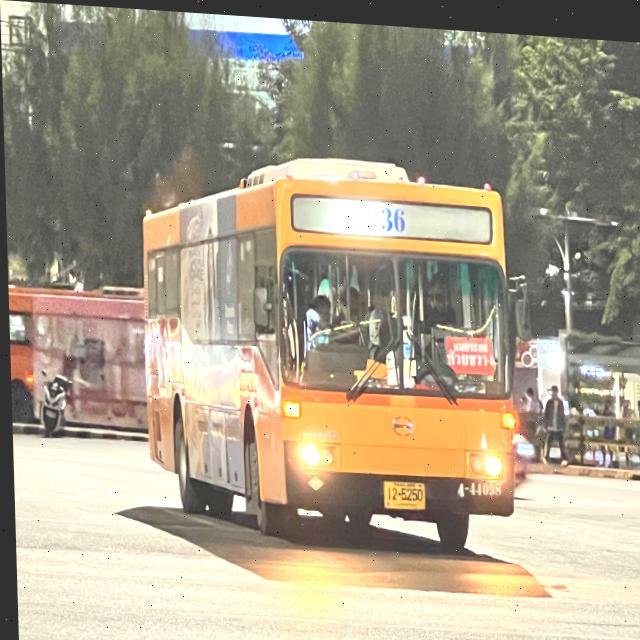BMTA-bus: (137, 144, 527, 553), (7, 280, 145, 443)
Bus-Line-Number: (374, 196, 408, 233)
Destination-Sign-Extra-Bus: (444, 329, 493, 370)
